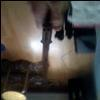melee: (40, 8, 52, 82)
